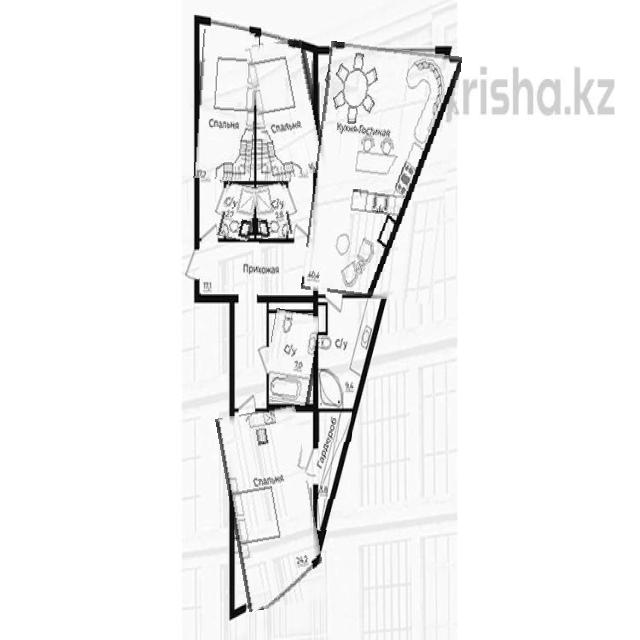bathroom: (318, 295, 384, 406), (264, 310, 321, 405), (220, 183, 258, 240), (255, 183, 291, 238)
hallway: (199, 239, 317, 298), (231, 297, 269, 412)
living_room: (223, 408, 320, 610), (252, 39, 324, 180), (195, 30, 258, 181)
other: (314, 410, 352, 530)
studio: (309, 44, 455, 302)
